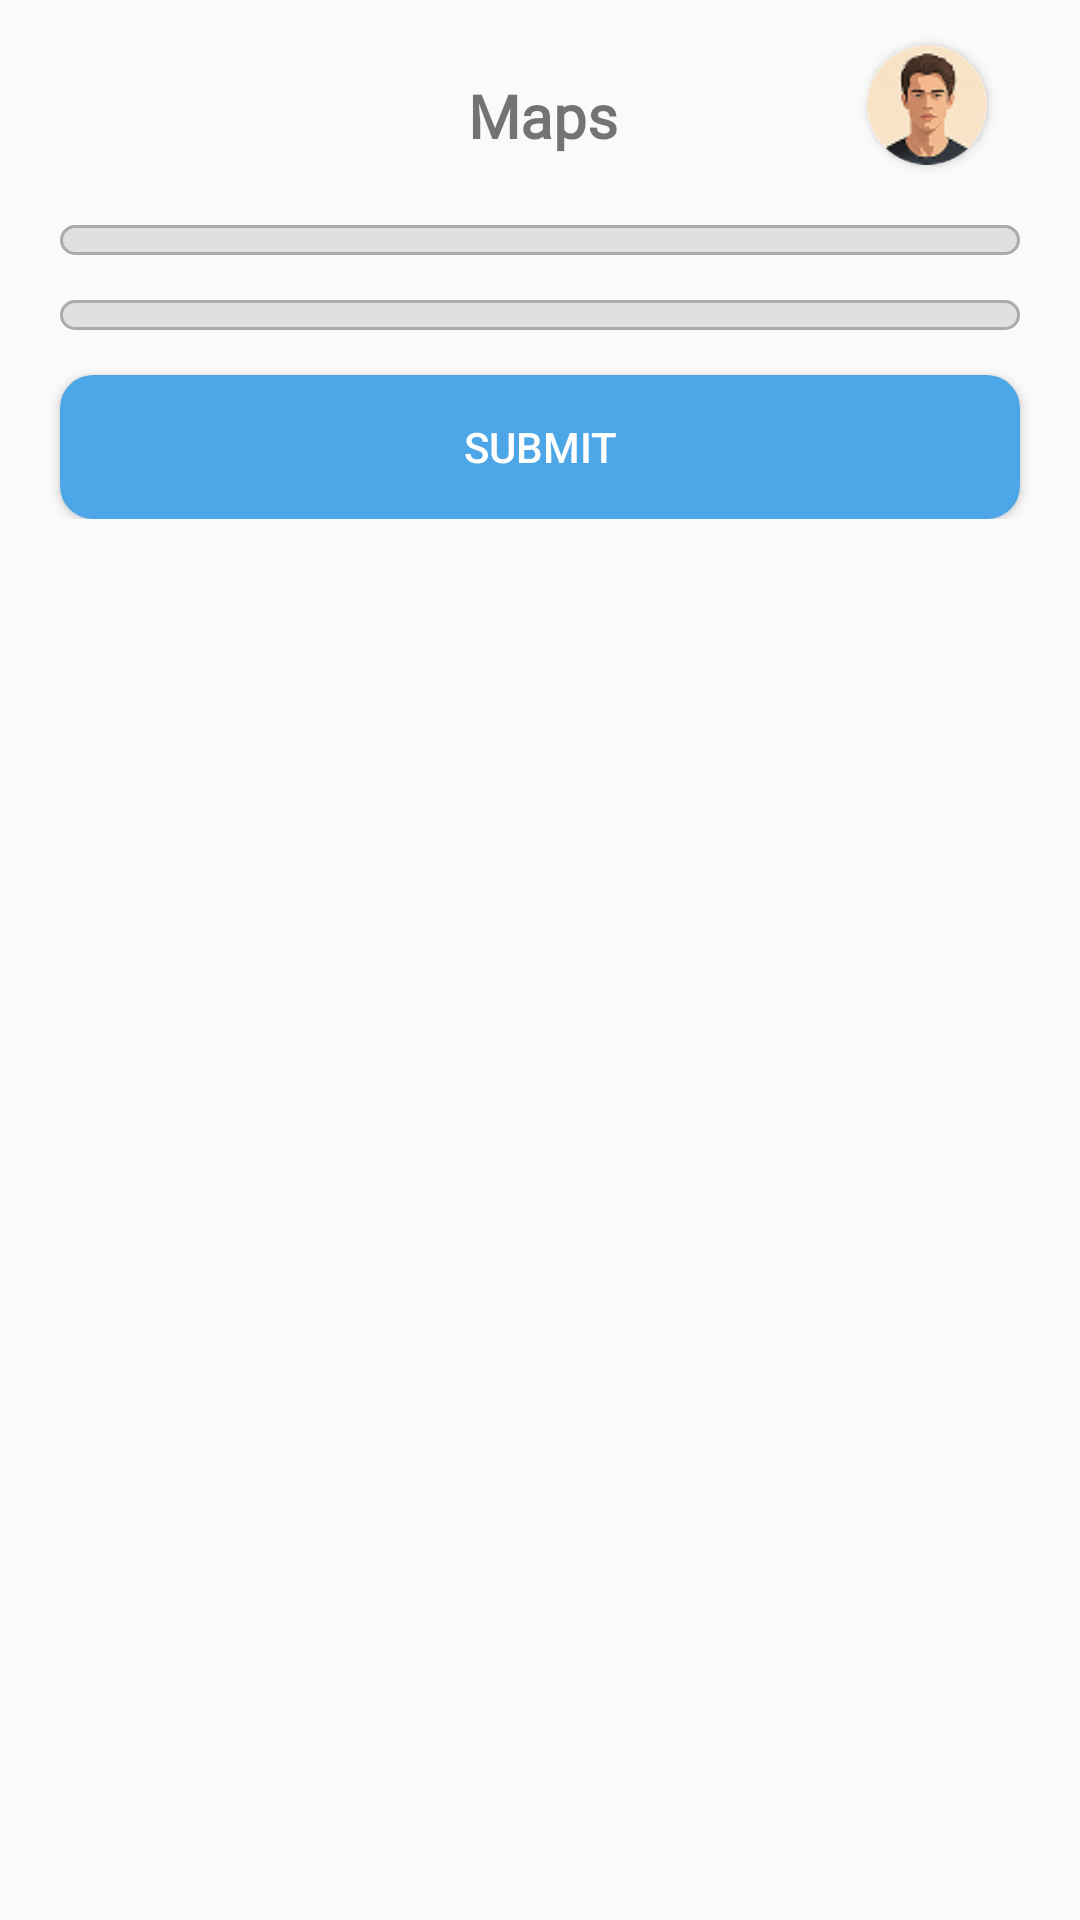

Screen size 1080×1920. Icon name, then its box in pixels as (x1,y1,x2,y2):
personimage: (867,45,987,165)
